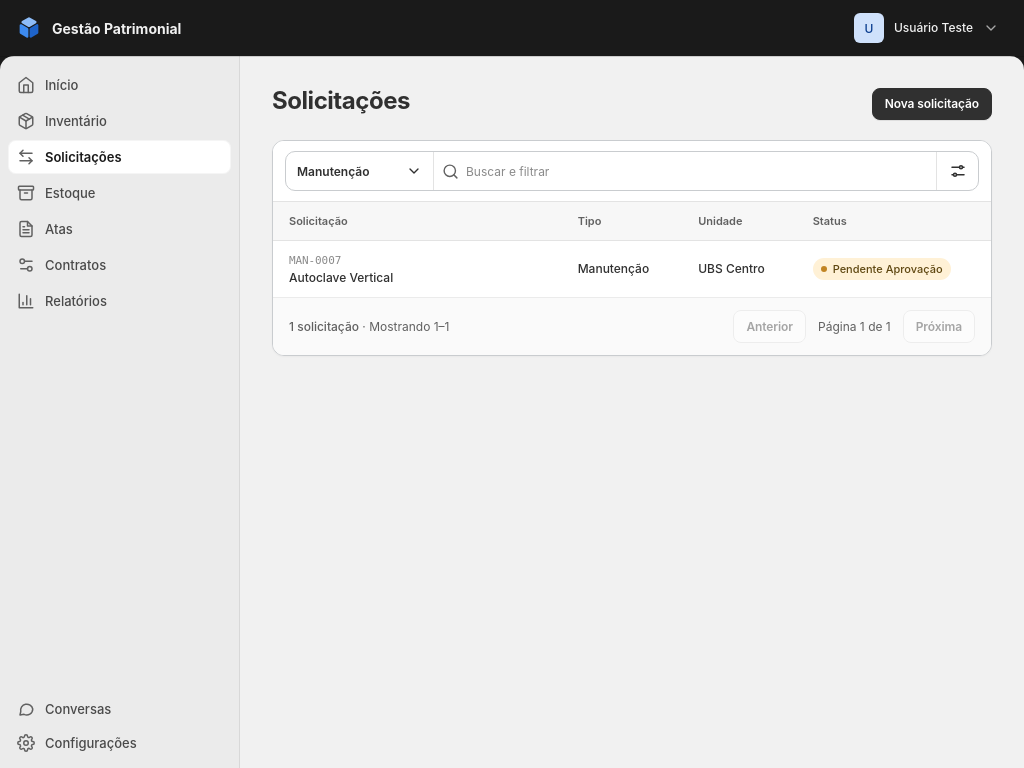
Test: Manutenções › lista as manutenções e abre o detalhe em página própria com histórico recolhido
Expected: the heading "Solicitações" is shown, [272,88,410,115]
Expected: the text "Pendente Aprovação" is shown, [813,258,951,280]
Click the link with aria-label "Ver manutenção de Autoclave Vertical": (341, 278) [289,270,393,285]
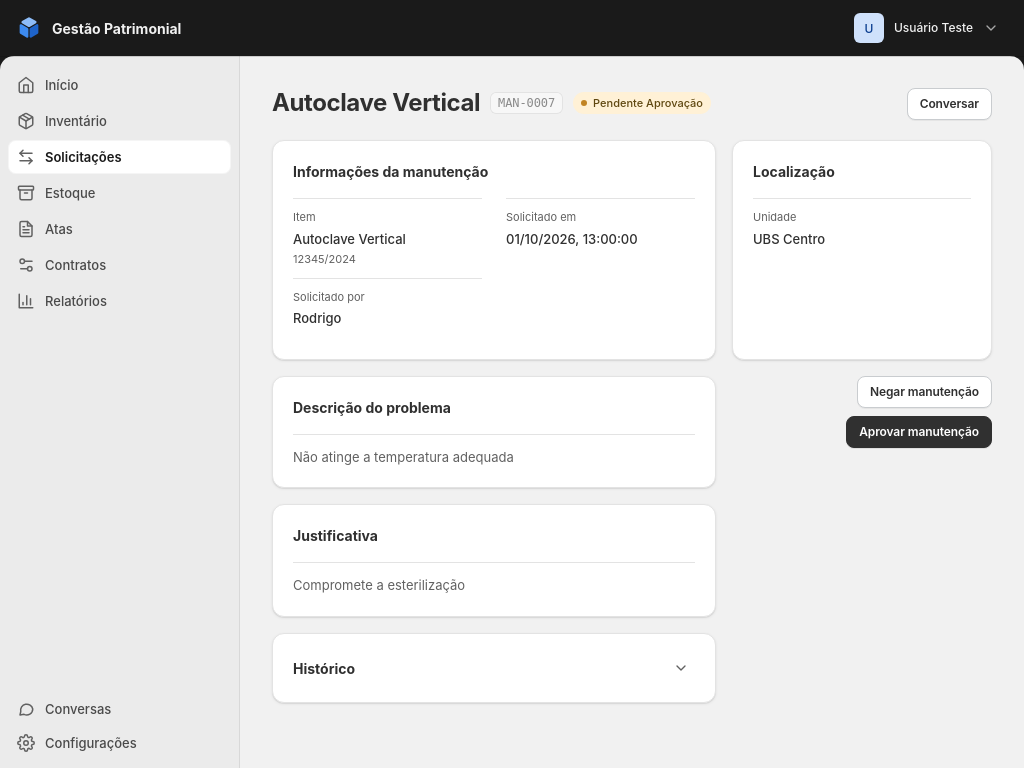
Expected: the heading "Autoclave Vertical" is shown, [272,88,480,118]
Expected: the text named "Número MAN-0007" is shown, [490,92,563,114]
Expected: the text "Não atinge a temperatura adequada" is shown, [293,434,695,467]
Click the button named "Expandir histórico": (681, 668) [667,654,695,682]
(page scrolled)
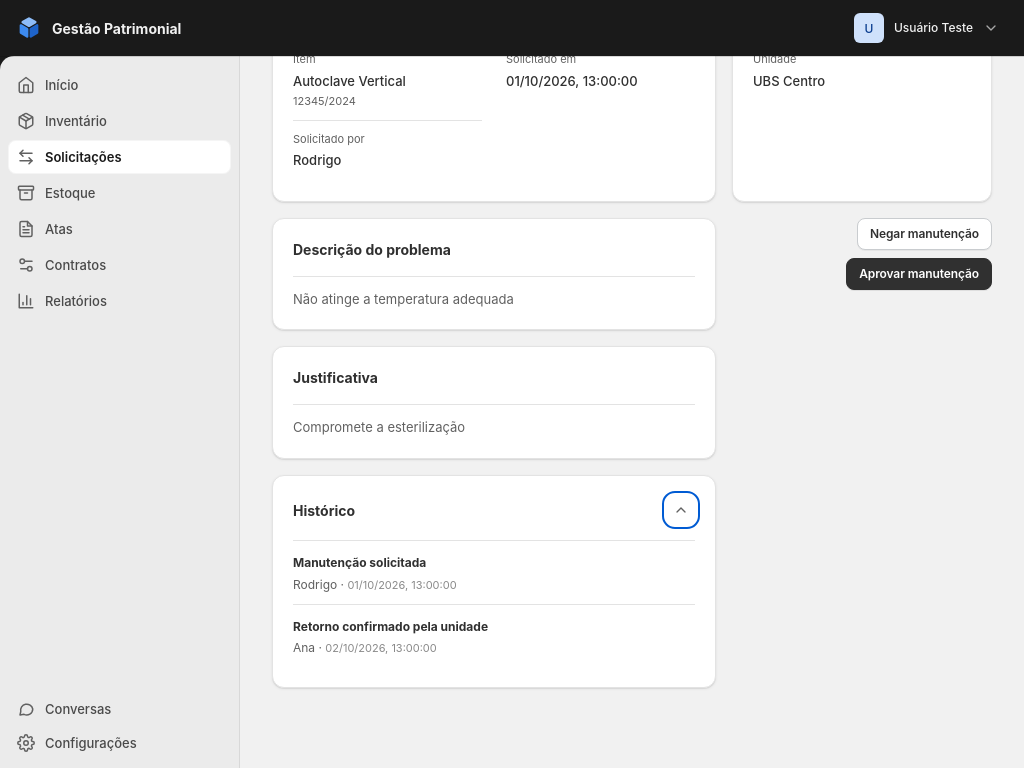
Expected: the text "Manutenção solicitada" is shown, [293,555,426,570]
Expected: the text "Retorno confirmado pela unidade" is shown, [293,619,488,634]
